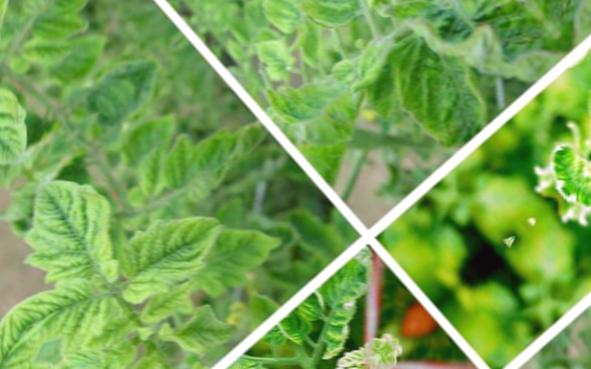Tomato mold leaf: (0, 145, 162, 316), (90, 171, 249, 324), (366, 10, 513, 161), (3, 243, 125, 365), (252, 0, 433, 63)
